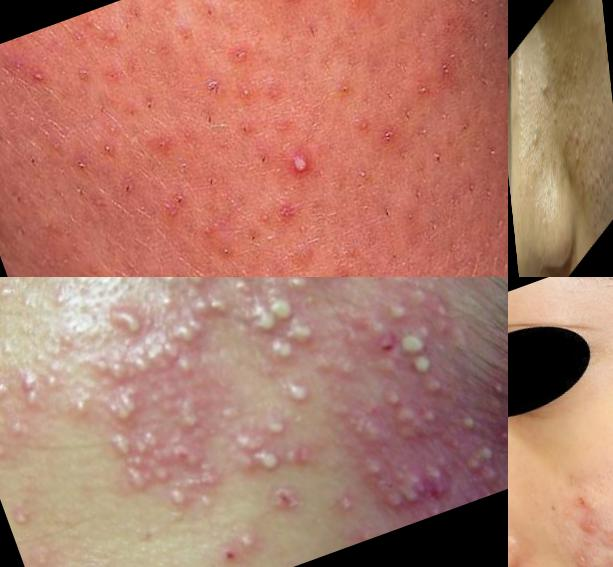blackhead: (573, 117, 598, 210), (551, 70, 573, 152), (596, 143, 613, 223), (569, 37, 585, 98), (532, 108, 544, 155), (610, 121, 613, 187)
folliculitis: (280, 139, 331, 188), (415, 395, 454, 434), (230, 79, 267, 113), (348, 111, 374, 146)
papular: (324, 479, 375, 530), (569, 505, 609, 547), (22, 534, 69, 567), (4, 498, 43, 537), (1, 360, 28, 415), (563, 542, 602, 567)
purulent: (110, 443, 193, 511), (270, 364, 328, 419), (1, 362, 56, 417), (276, 431, 333, 483), (219, 417, 270, 466), (55, 380, 103, 432), (166, 393, 215, 441), (152, 474, 200, 523), (1, 400, 43, 453), (286, 312, 332, 359), (374, 287, 421, 333), (451, 402, 500, 446), (390, 324, 436, 369), (253, 405, 300, 449), (249, 438, 293, 483), (404, 346, 448, 388), (261, 329, 304, 370), (227, 523, 270, 564), (109, 302, 152, 342), (166, 348, 208, 388), (275, 278, 333, 299), (173, 278, 223, 302), (433, 278, 484, 292)
sebo-crystan-conglo: (84, 326, 193, 396), (375, 451, 460, 520), (443, 424, 509, 500), (163, 287, 237, 353), (96, 411, 174, 471), (240, 290, 311, 345), (92, 381, 154, 435), (369, 374, 418, 420)
